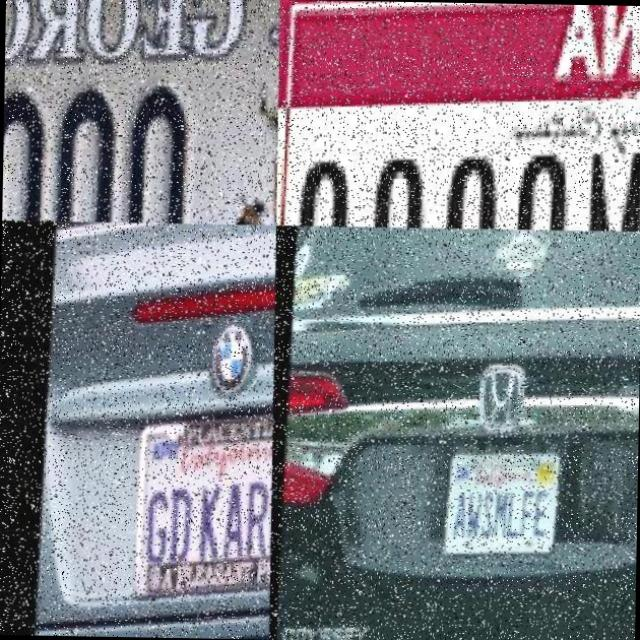LicensePlate: (289, 123, 640, 231), (2, 75, 229, 224), (133, 416, 272, 604), (447, 448, 564, 568)
